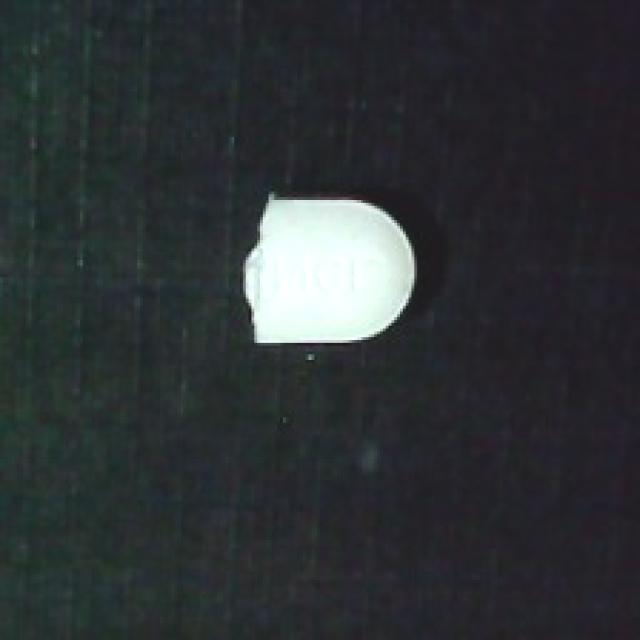defected: (234, 191, 423, 349)
